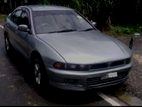car: (3, 5, 133, 94)
